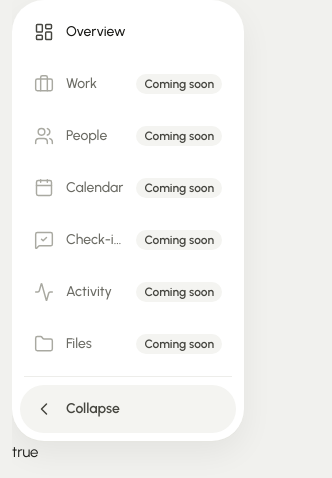
it: FloatingRail › supports controlled expanded state
Click the button with aria-label "Collapse navigation".
click(128, 409)  # box 20,385 -> 236,433
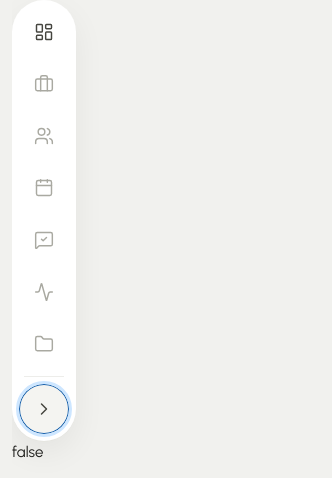
Expected: the text "false" is shown, 12,443 -> 43,461
Expected: the button named "Expand navigation" is collapsed, 20,385 -> 68,433
